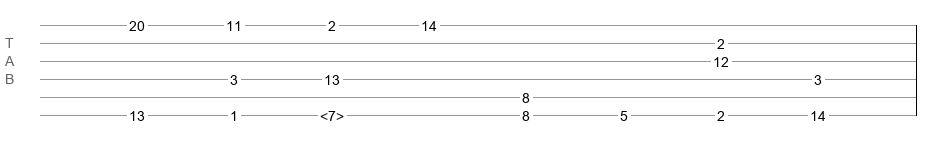1: (230, 108, 238, 118)
11: (226, 18, 242, 28)
12: (713, 54, 729, 64)
13: (129, 108, 145, 118), (324, 72, 340, 82)
14: (421, 18, 437, 28), (810, 108, 826, 118)
2: (328, 18, 336, 28), (717, 36, 725, 46), (717, 108, 725, 118)
20: (129, 18, 145, 28)
3: (230, 72, 238, 82), (814, 72, 822, 82)
5: (620, 108, 628, 118)
8: (522, 90, 530, 100), (522, 108, 530, 118)
harmonic: (320, 108, 344, 118)
